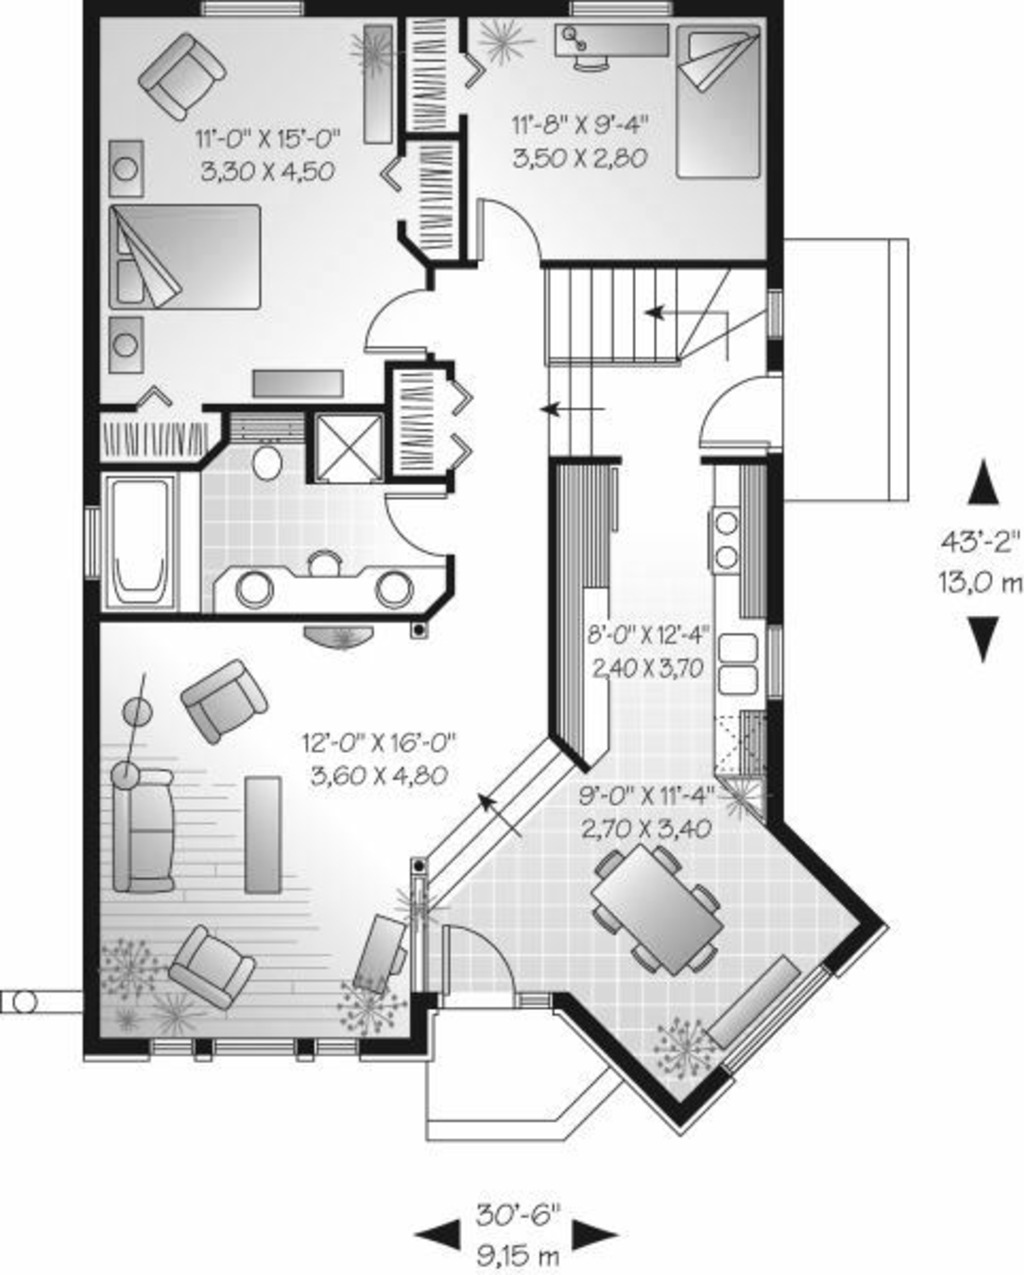bed: (100, 198, 279, 312), (673, 17, 765, 194)
dining_table: (571, 815, 728, 980)
door: (430, 910, 542, 1025), (667, 368, 802, 459), (373, 486, 478, 563), (348, 278, 438, 355), (475, 190, 565, 261)
large_sofa: (108, 749, 191, 910)
small_sink: (222, 553, 432, 617)
small_sofa: (163, 659, 283, 751), (169, 917, 265, 1010)
stairs: (514, 253, 738, 443)
tub: (110, 470, 187, 613)
twin_sink: (700, 619, 769, 717)
window: (714, 949, 853, 1077), (146, 1019, 371, 1064), (571, 1, 671, 31), (191, 1, 310, 23)
